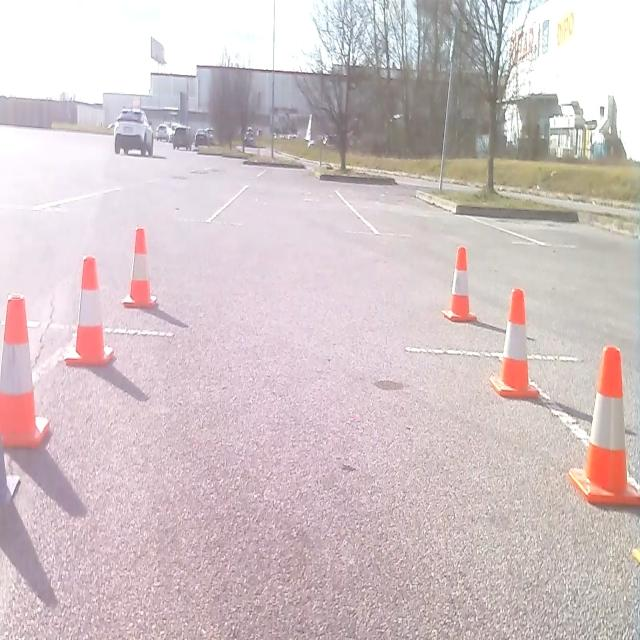orange_cone: (567, 342, 639, 510), (0, 290, 52, 451), (488, 285, 540, 400), (64, 253, 115, 368), (121, 224, 158, 310), (441, 244, 477, 324)
